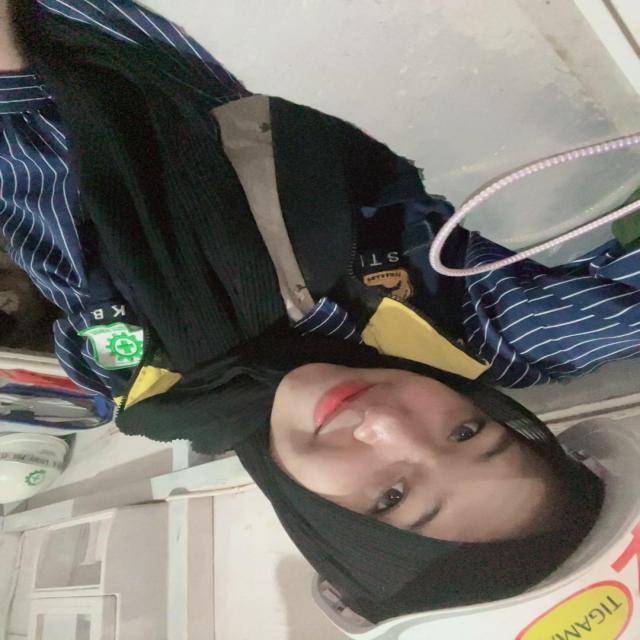safetyhelmet: (290, 442, 640, 640)
